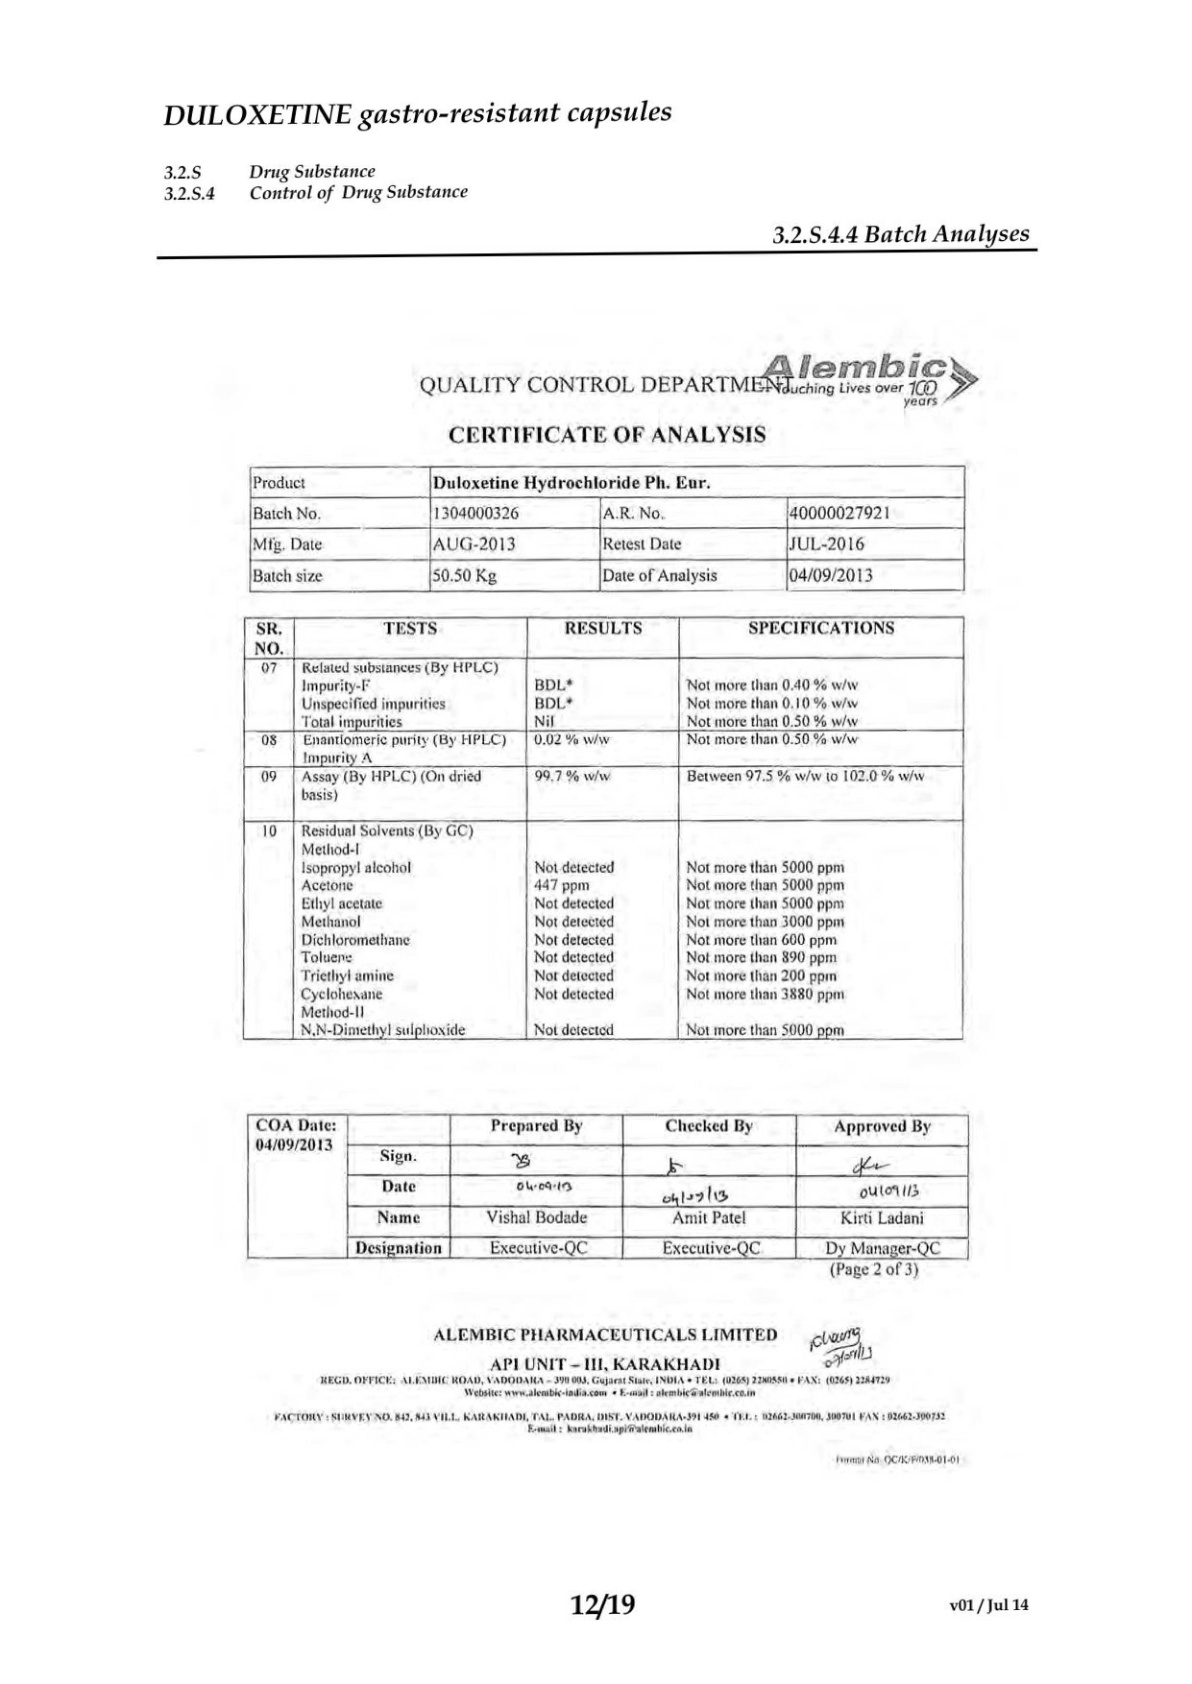full_lined: (243, 615, 965, 1041)
merged_cells: (245, 1111, 969, 1260), (246, 465, 966, 592)
